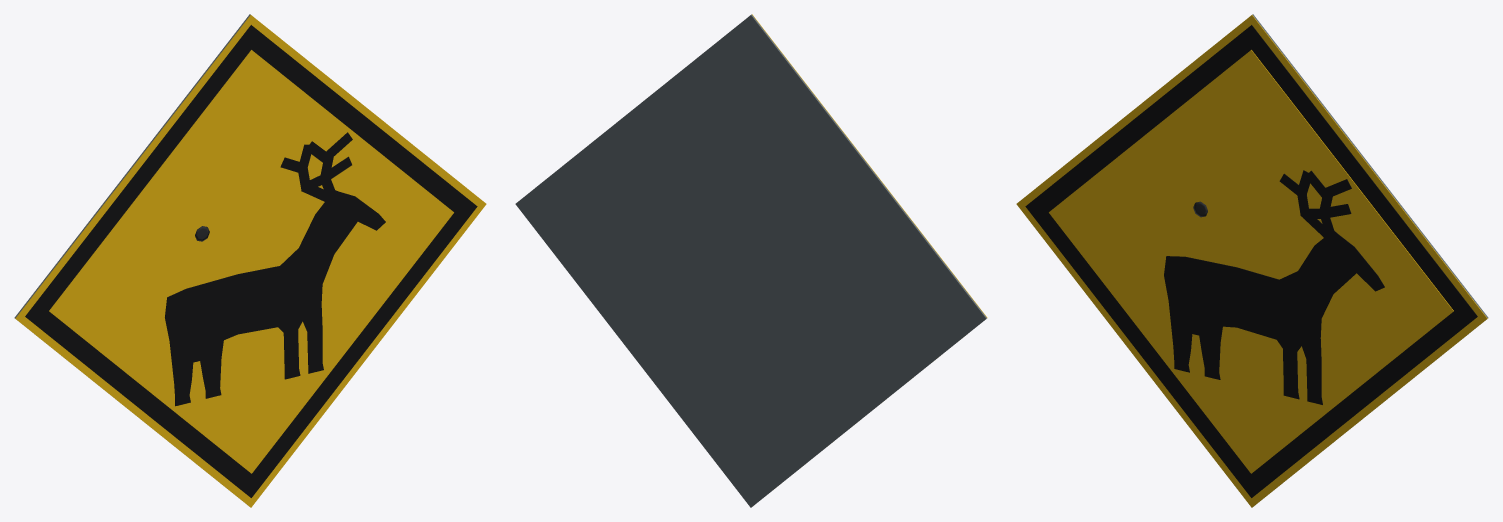
File: PlacaAnimal.fbx
The picture shows the model from 3 angles, left to right: view 1: azimuth 30°, elevation 25°; view 2: azimuth 150°, elevation 25°; view 3: azimuth 330°, elevation 25°; orthographic projection.
Visible parts, largest first — view 1: PlacaAnimal; view 2: PlacaAnimal; view 3: PlacaAnimal.
Boxes of the visible parts, left/top/right/bottom form: PlacaAnimal: left=14, top=14, right=486, bottom=507; PlacaAnimal: left=515, top=14, right=987, bottom=507; PlacaAnimal: left=1016, top=14, right=1488, bottom=507.
Bounding box in the file's own units: 0.8485 × 0.8485 × 0.0082.
